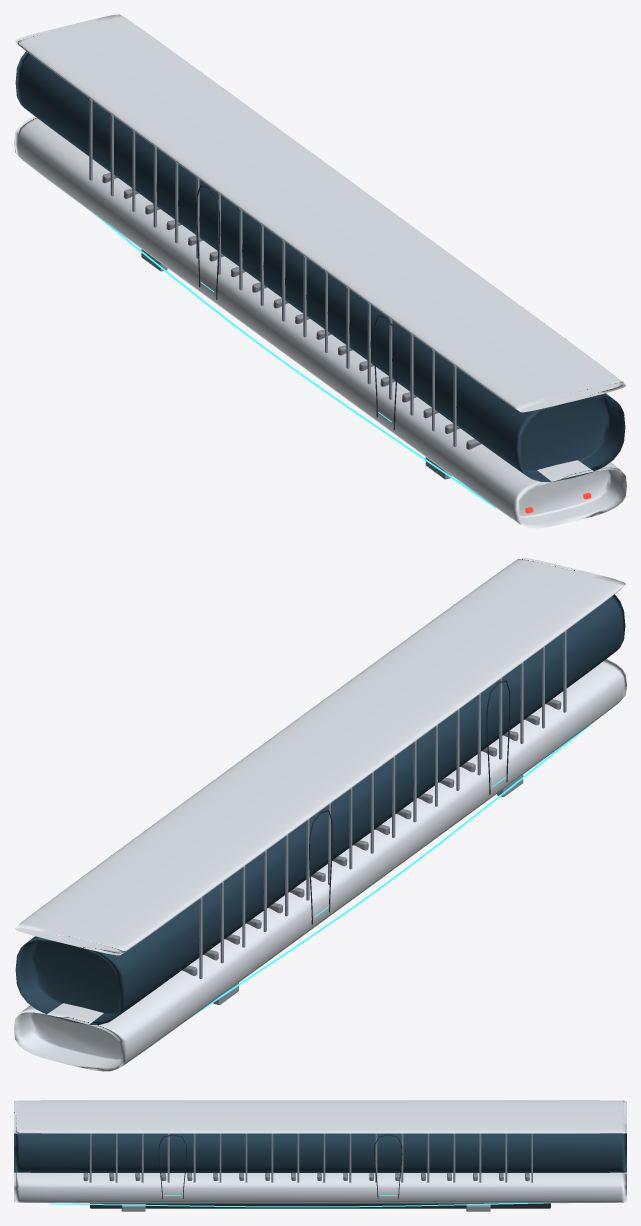
File: orion_regional_coach.gltf
3 renders of one model, top to bottom at view 1: azimuth 30°, elevation 25°; view 2: azimuth 150°, elevation 25°; view 3: azimuth 270°, elevation 25°, orthographic. The views are drawn at different scales.
Visible parts, largest first — view 1: orion_regional_coach; view 2: orion_regional_coach; view 3: orion_regional_coach.
Boxes of the visible parts, x1,y1,x2,y2 form: orion_regional_coach: [14, 14, 626, 528]; orion_regional_coach: [14, 557, 626, 1071]; orion_regional_coach: [14, 1100, 626, 1211].
Bounding box in the file's own units: 3.49 × 4.08 × 26.67.
